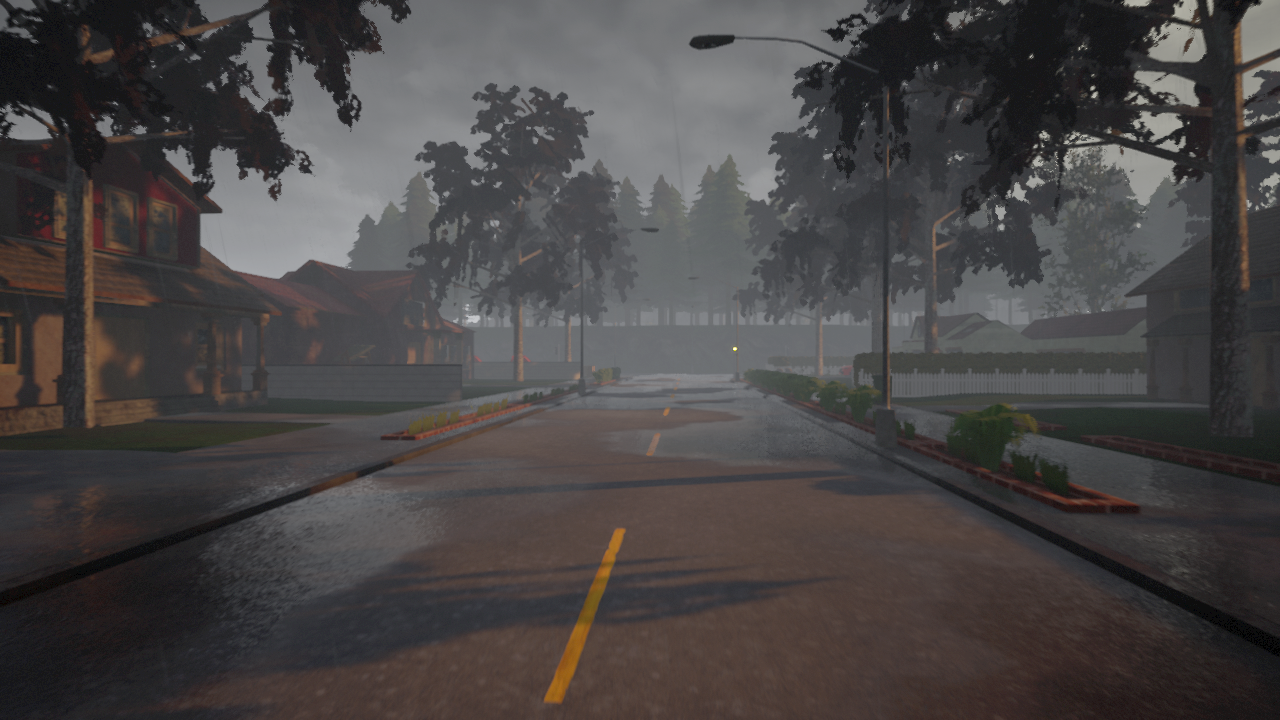yellow: (732, 344, 738, 358)
